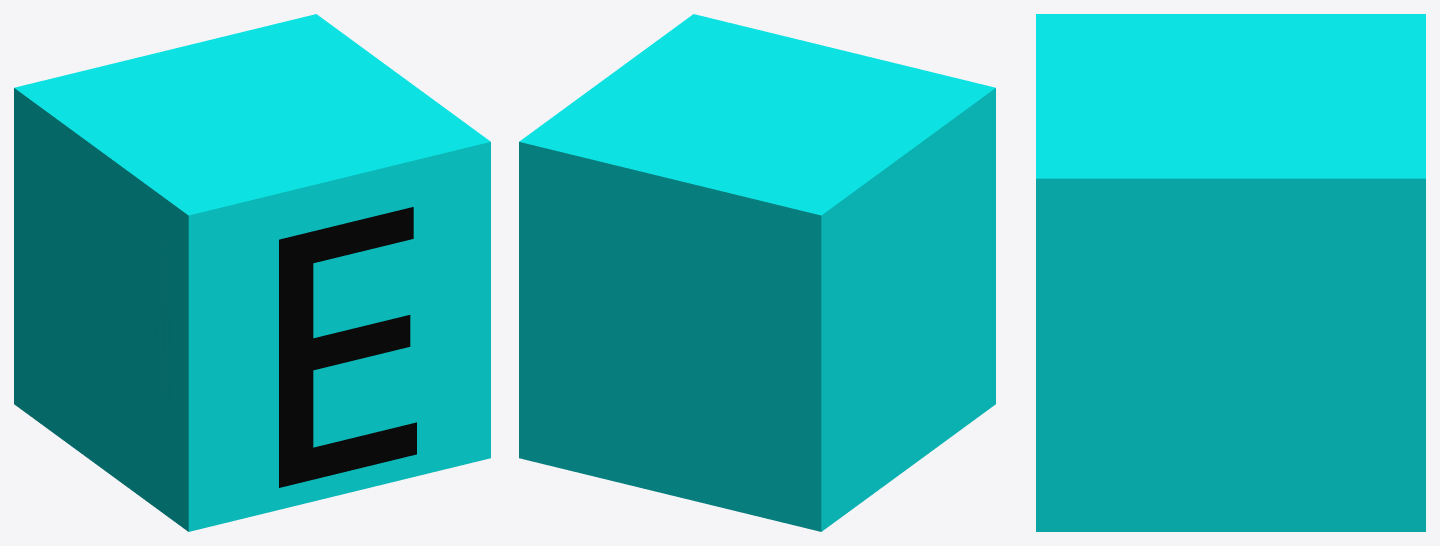
The model's file is Tegel5.gltf.
The picture shows the model from 3 angles, left to right: view 1: azimuth 30°, elevation 25°; view 2: azimuth 150°, elevation 25°; view 3: azimuth 270°, elevation 25°; orthographic projection. The views are drawn at different scales.
Visible parts, largest first — view 1: Cube.010, Text.010; view 2: Cube.010; view 3: Cube.010.
Boxes of the visible parts, x1,y1,x2,y2 form: Cube.010: (14, 14, 490, 531); Text.010: (279, 207, 416, 487); Cube.010: (519, 14, 995, 531); Cube.010: (1036, 14, 1425, 531).
Bounding box in the file's own units: 0.2 × 0.2 × 0.2061.
